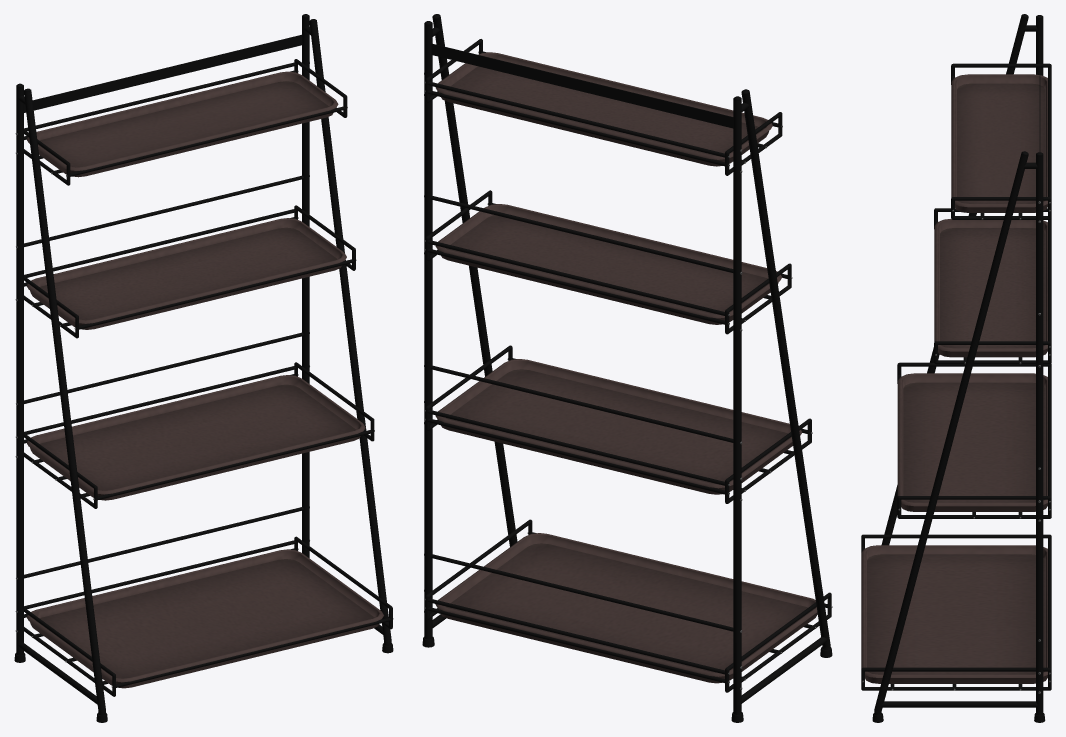
The model's file is Furniture_flowerstand_02a_LOD0.fbx.
3 renders of one model, left to right at view 1: azimuth 30°, elevation 25°; view 2: azimuth 150°, elevation 25°; view 3: azimuth 270°, elevation 25°, orthographic. The views are drawn at different scales.
Visible parts, largest first — view 1: Furniture_flowerstand_02a_LOD0; view 2: Furniture_flowerstand_02a_LOD0; view 3: Furniture_flowerstand_02a_LOD0.
Part boxes in pixels (x1,y1,x2,y2): Furniture_flowerstand_02a_LOD0: (14, 14, 393, 722); Furniture_flowerstand_02a_LOD0: (422, 14, 832, 722); Furniture_flowerstand_02a_LOD0: (861, 14, 1051, 722).
Bounding box in the file's own units: 88.66 × 165 × 50.25.
